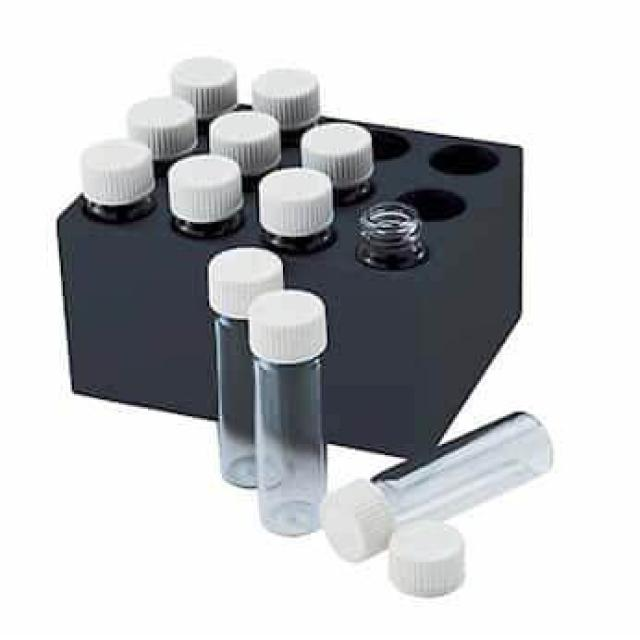vial: (335, 490, 397, 556), (252, 290, 331, 341), (394, 513, 451, 578), (124, 89, 193, 137), (261, 68, 325, 110), (212, 248, 279, 288), (260, 168, 328, 206), (308, 128, 370, 168), (178, 56, 230, 103), (173, 159, 227, 197), (80, 148, 144, 170)
